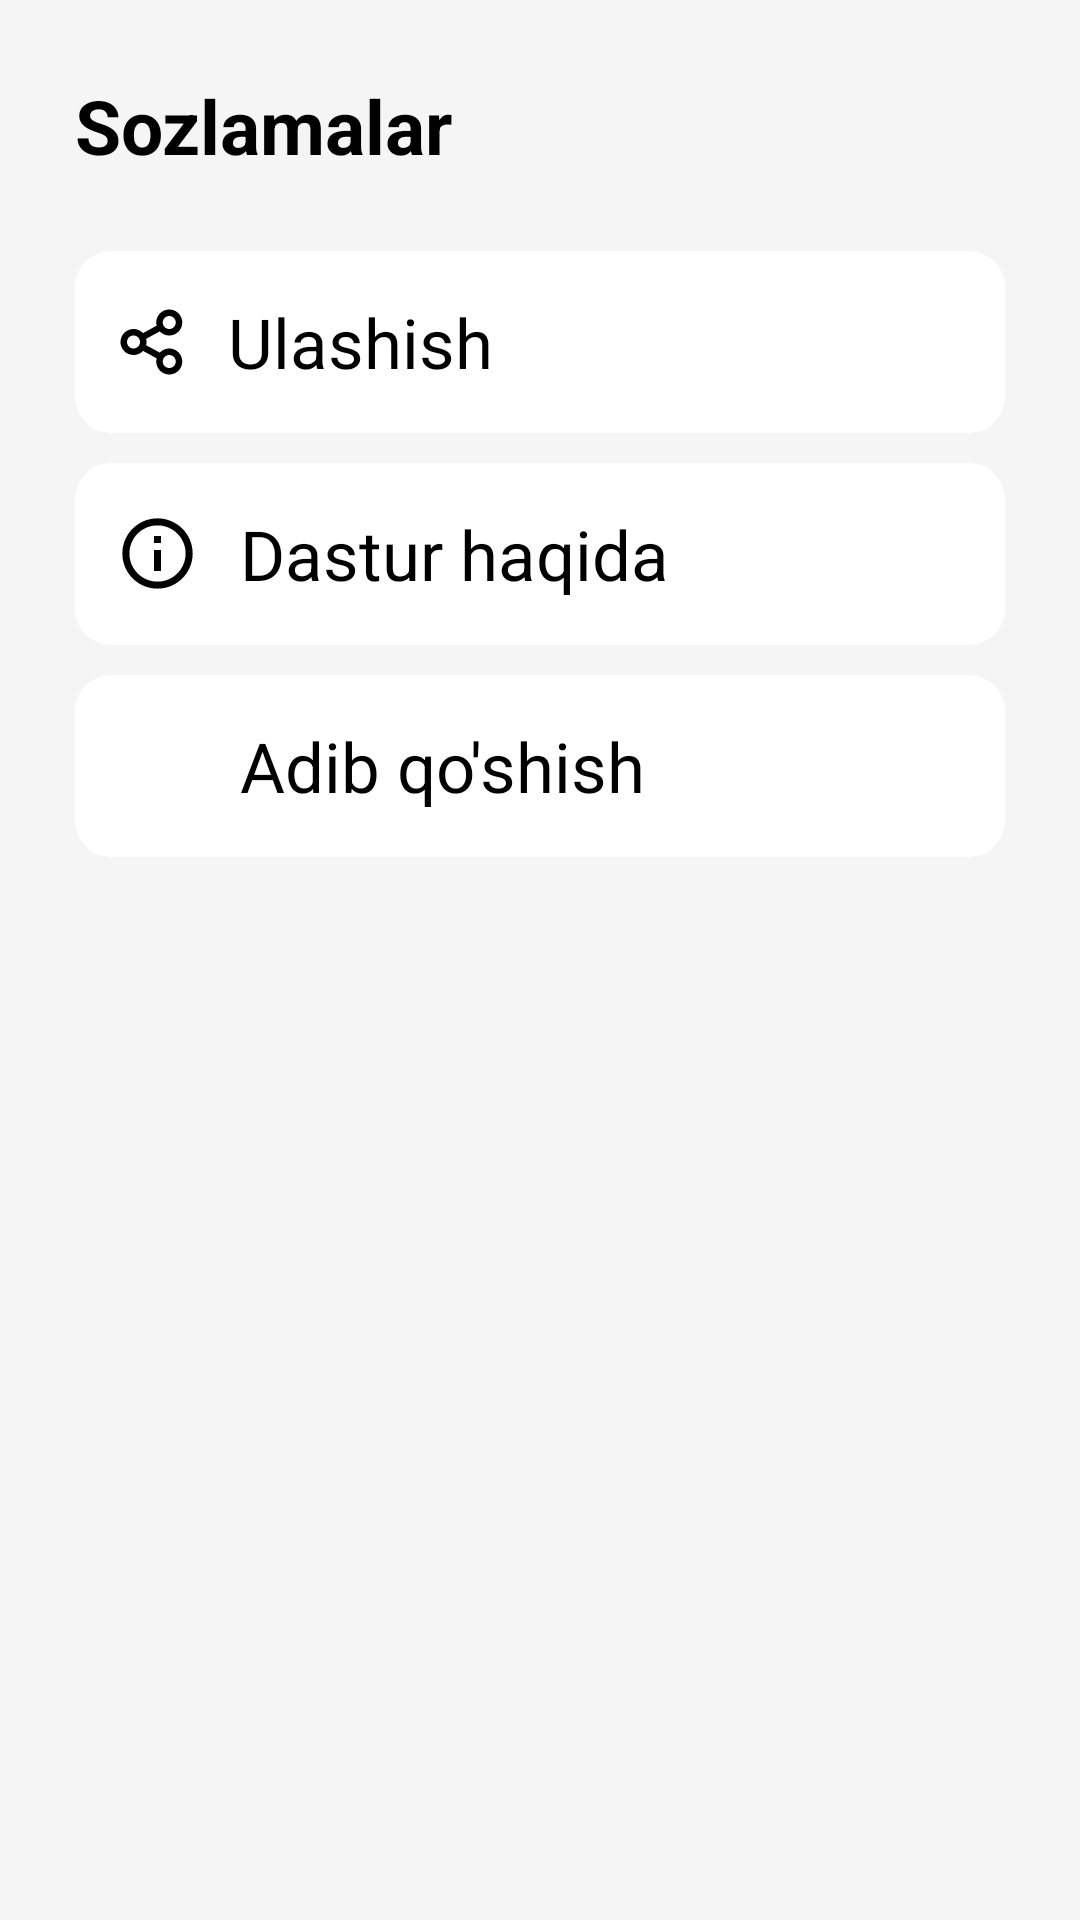

Icons on this 1080×1920 Android screen, each with its box as bbox=(x1, y1, x2, y2):
info: bbox=(122, 518, 193, 589)
share: bbox=(120, 309, 183, 375)
